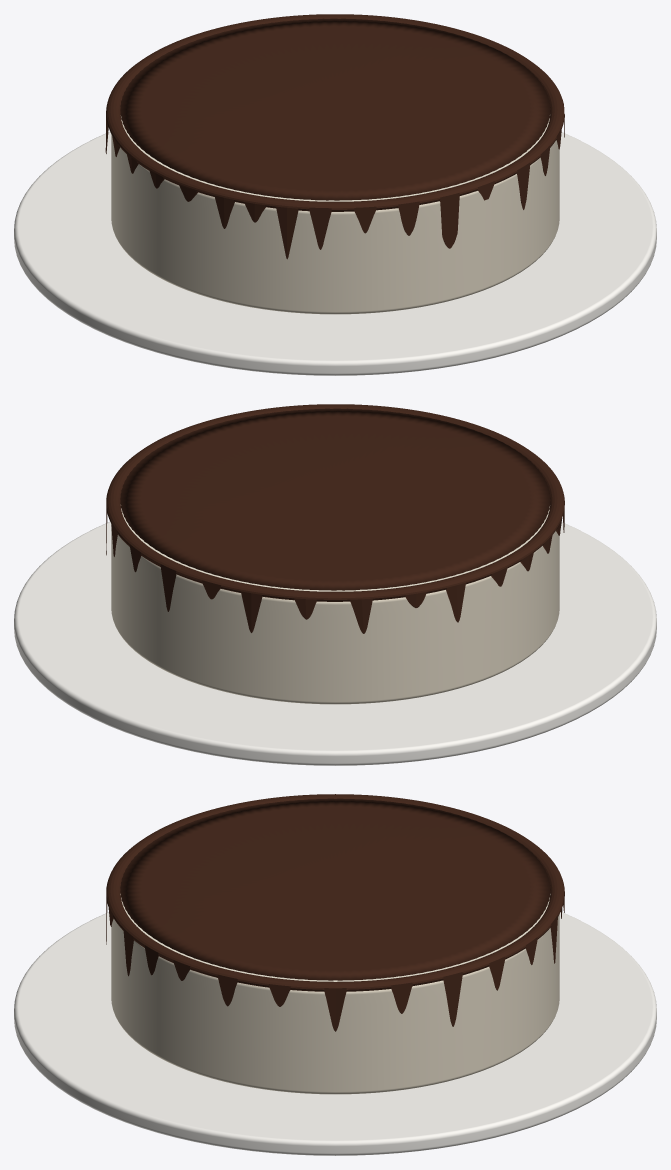
Rendered from round_1_tier.glb.
3 renders of one model, top to bottom at view 1: azimuth 30°, elevation 25°; view 2: azimuth 150°, elevation 25°; view 3: azimuth 270°, elevation 25°, orthographic.
Parts seen in each view (by area): view 1: round_1_L1_round_photo_photo_drip_glossy_top_cap, round_1_board, round_1_L1_body, round_1_L1_round_photo_thick_smooth_chocolate_band, round_1_L1_top; view 2: round_1_L1_round_photo_photo_drip_glossy_top_cap, round_1_board, round_1_L1_body, round_1_L1_round_photo_thick_smooth_chocolate_band, round_1_L1_top; view 3: round_1_L1_round_photo_photo_drip_glossy_top_cap, round_1_board, round_1_L1_body, round_1_L1_round_photo_thick_smooth_chocolate_band, round_1_L1_top.
Boxes of the visible parts, x1=… form: round_1_L1_round_photo_photo_drip_glossy_top_cap: x1=120, y1=18, x2=550, y2=200; round_1_board: x1=14, y1=131, x2=656, y2=375; round_1_L1_body: x1=111, y1=134, x2=559, y2=314; round_1_L1_round_photo_thick_smooth_chocolate_band: x1=105, y1=14, x2=564, y2=259; round_1_L1_top: x1=121, y1=116, x2=549, y2=201; round_1_L1_round_photo_photo_drip_glossy_top_cap: x1=120, y1=408, x2=550, y2=590; round_1_board: x1=14, y1=521, x2=656, y2=765; round_1_L1_body: x1=111, y1=527, x2=559, y2=704; round_1_L1_round_photo_thick_smooth_chocolate_band: x1=106, y1=404, x2=564, y2=633; round_1_L1_top: x1=121, y1=506, x2=549, y2=591; round_1_L1_round_photo_photo_drip_glossy_top_cap: x1=120, y1=798, x2=550, y2=980; round_1_board: x1=14, y1=912, x2=656, y2=1155; round_1_L1_body: x1=111, y1=914, x2=559, y2=1094; round_1_L1_round_photo_thick_smooth_chocolate_band: x1=106, y1=794, x2=564, y2=1031; round_1_L1_top: x1=120, y1=894, x2=550, y2=981.
Bounding box in the file's own units: 8.6 × 1.97 × 8.6.
